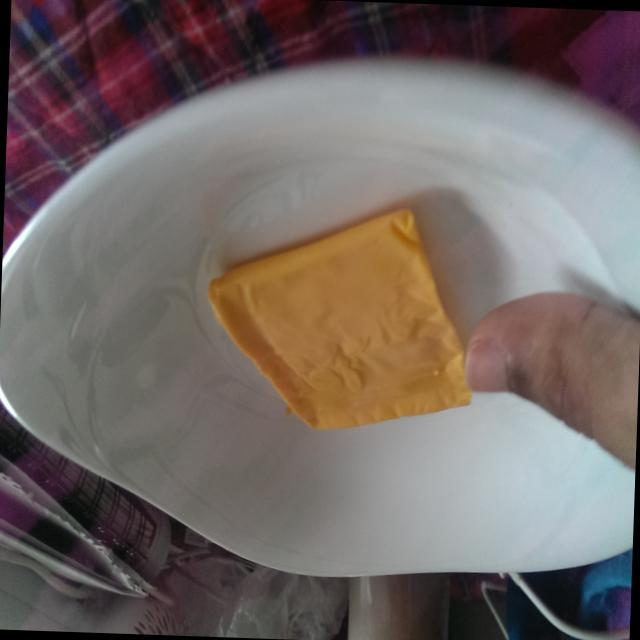Cheese: (194, 192, 482, 438)
Finger: (458, 271, 603, 452)
